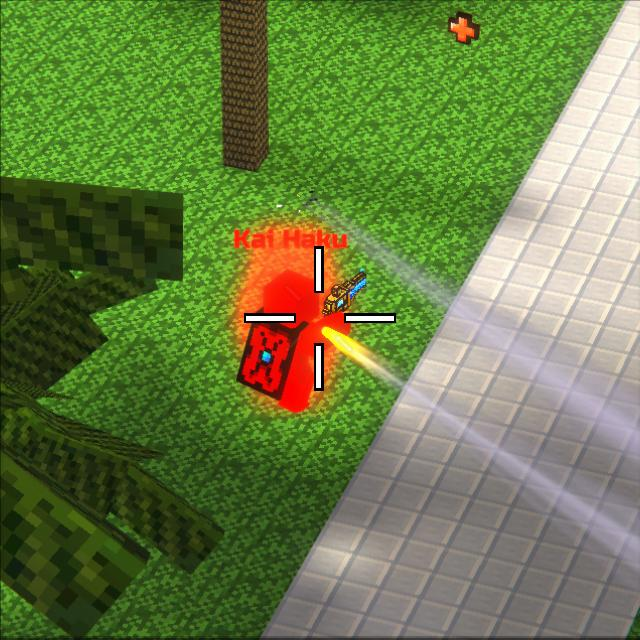Enemy: (243, 270, 336, 413)
